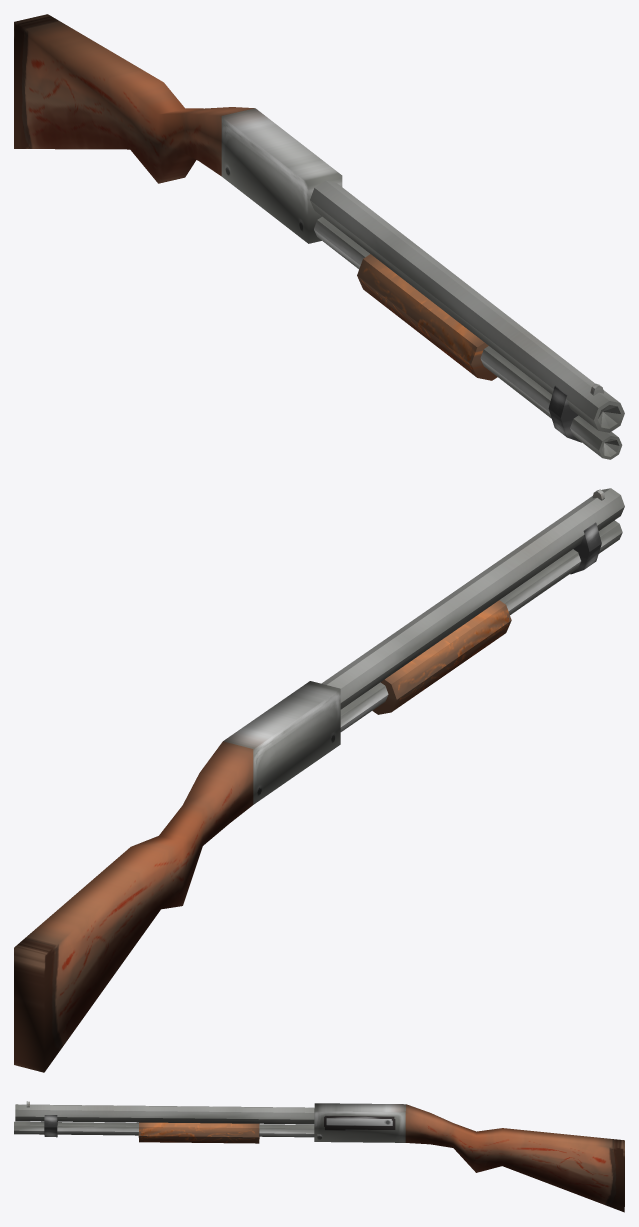
The model's file is low shotgun.fbx.
3 views of the same model, one above another, from view 1: azimuth 30°, elevation 25°; view 2: azimuth 150°, elevation 25°; view 3: azimuth 270°, elevation 25° (orthographic). The views are drawn at different scales.
Visible parts, largest first — view 1: Cube; view 2: Cube; view 3: Cube.
Boxes of the visible parts, <box> form: Cube: <box>14,14,624,459</box>; Cube: <box>14,488,624,1072</box>; Cube: <box>14,1101,624,1212</box>.
Size of the model in its own units: 25.25 by 77.83 by 428.
Materials: 1 (1 with a texture image).
